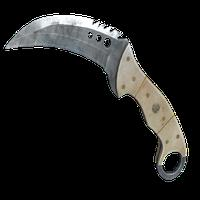knife: (7, 8, 189, 185)
